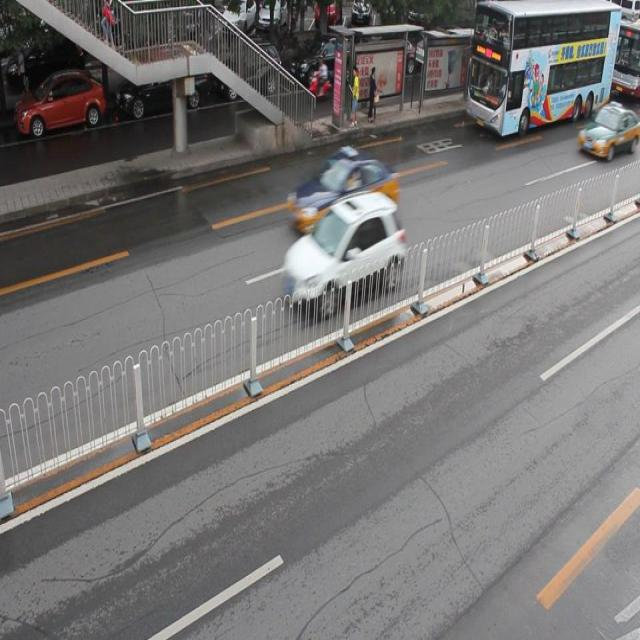car: (279, 190, 404, 318), (289, 147, 399, 232), (14, 72, 104, 141), (117, 56, 205, 119), (576, 101, 640, 161), (287, 36, 358, 90), (219, 42, 279, 103)
van: (467, 1, 619, 138)
